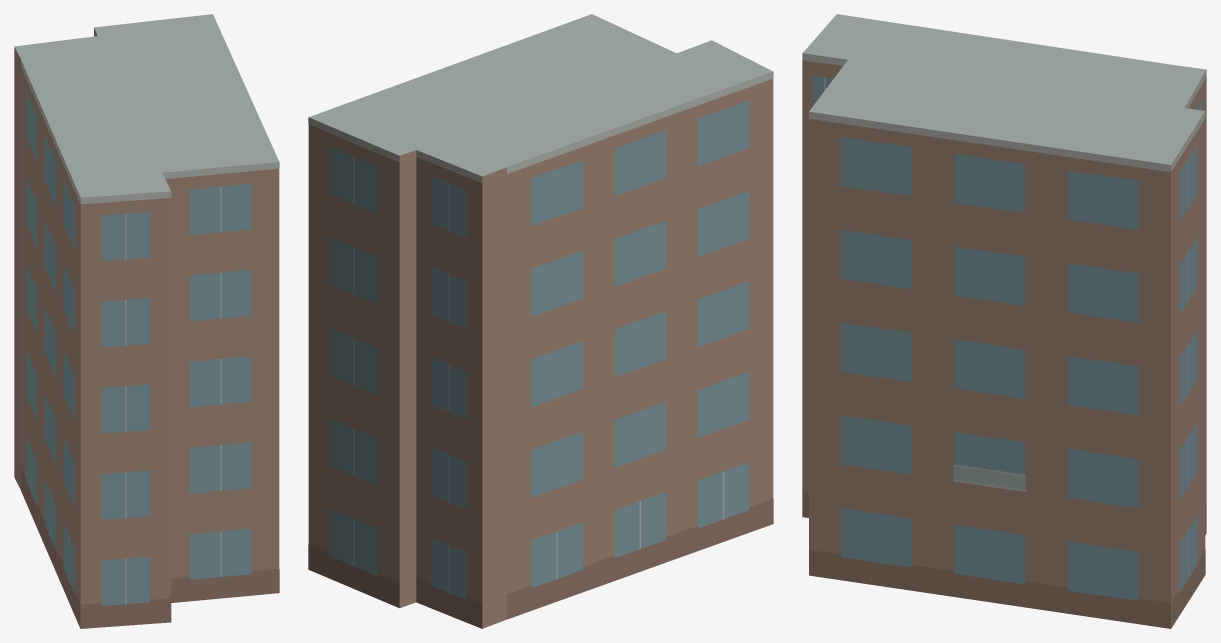
File: survey-upis-32872636.glb
3 views of the same model, side by side, from view 1: azimuth 30°, elevation 25°; view 2: azimuth 150°, elevation 25°; view 3: azimuth 270°, elevation 25° (orthographic). The views are drawn at different scales.
Visible parts, largest first — view 1: survey-upis-32872636.tmp; view 2: survey-upis-32872636.tmp; view 3: survey-upis-32872636.tmp.
Part boxes in pixels (x1,y1,x2,y2): survey-upis-32872636.tmp: (14, 14, 279, 628); survey-upis-32872636.tmp: (308, 14, 773, 628); survey-upis-32872636.tmp: (802, 14, 1206, 628).
Bounding box in the file's own units: 11.18 × 16 × 12.64.
